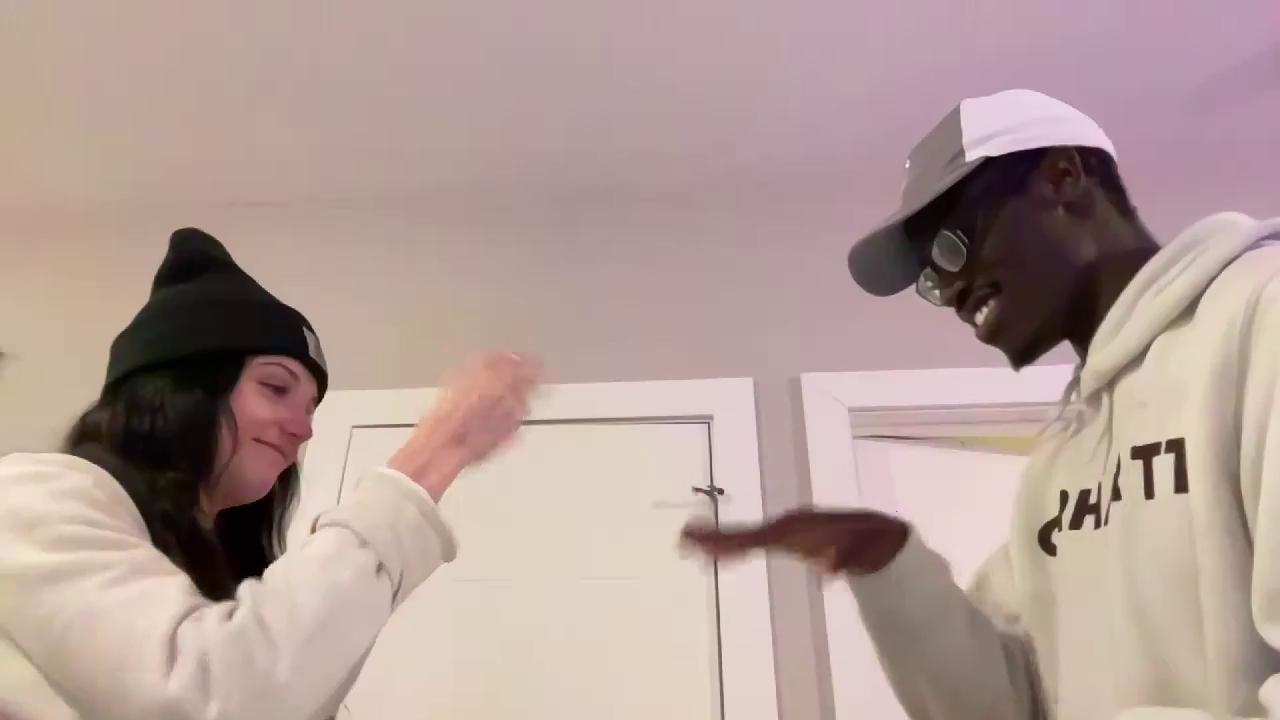Paper: (682, 505, 909, 572)
Scissors: (425, 346, 560, 457)
